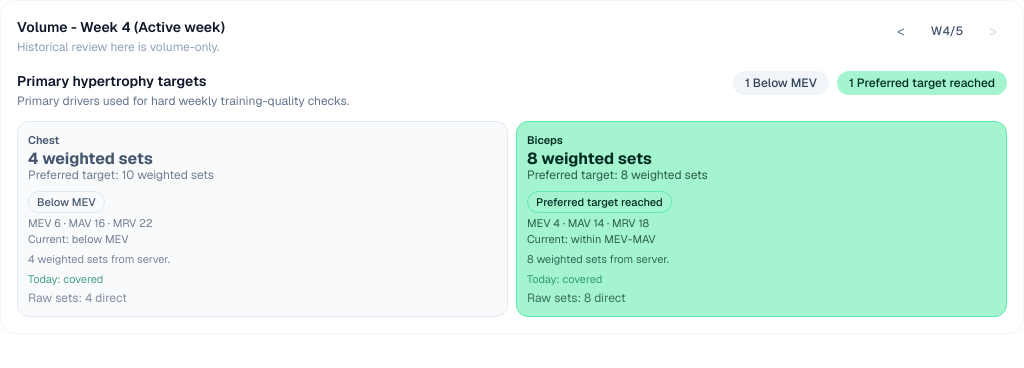
Test: ProgramStatusCard volumeOnly variant › keeps summary badges in sync when navigating historical weeks and back
The image size is (1024, 368).
Expected: the text "Volume - Week 4 (Active week)" is shown, x1=17 y1=17 x2=225 y2=37
Expected: the text "1 Below MEV" is shown, x1=733 y1=71 x2=829 y2=95
Click the button named "View previous week" at [901, 31], box x1=887 y1=17 x2=915 y2=45
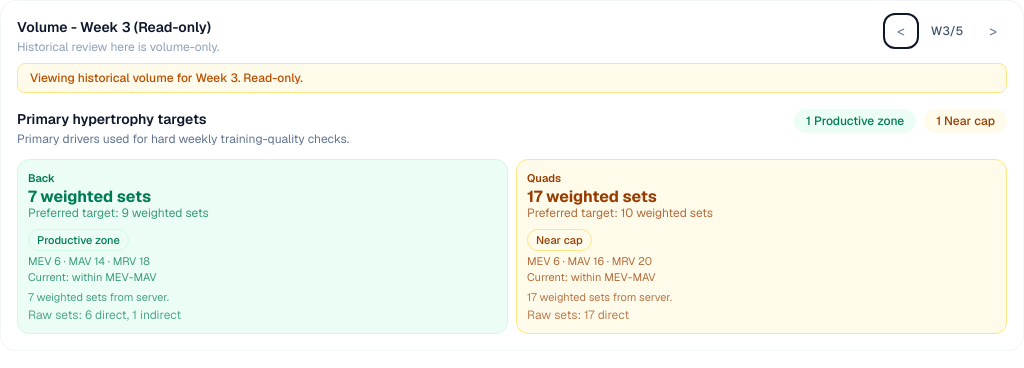
Result: the text "Volume - Week 3 (Read-only)" is shown at x1=17 y1=17 x2=219 y2=37
Result: the text "Viewing historical volume for Week 3. Read-only." is shown at x1=17 y1=63 x2=1007 y2=93
Result: the text "1 Productive zone" is shown at x1=794 y1=109 x2=916 y2=133
Click the button named "View next week" at [993, 31], box x1=979 y1=17 x2=1007 y2=45
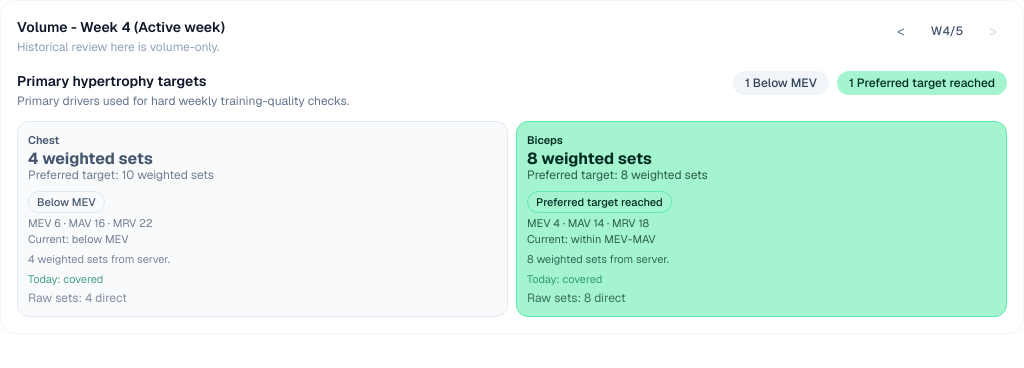
Result: the text "Volume - Week 4 (Active week)" is shown at x1=17 y1=17 x2=225 y2=37
Result: the text "1 Below MEV" is shown at x1=733 y1=71 x2=829 y2=95
Result: the text "1 Preferred target reached" is shown at x1=837 y1=71 x2=1007 y2=95
